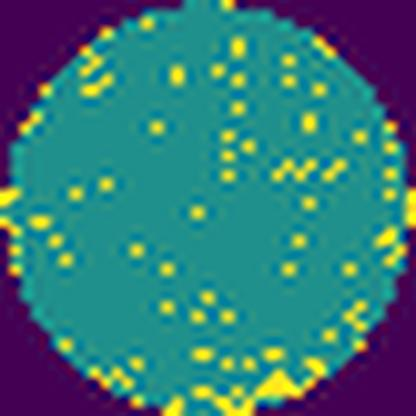Edge-Loc: (188, 350, 334, 416)
